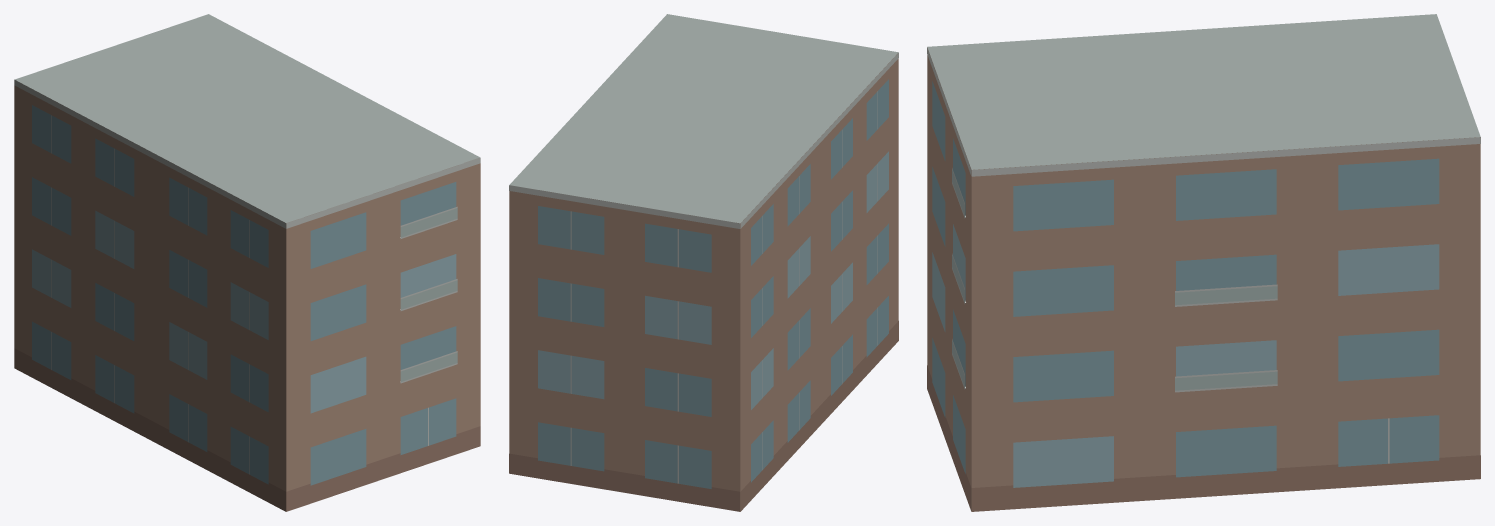
File: residential-d07a0abf-db98-4db4-896c-a5da2e8186bc.glb
3 views of the same model, side by side, from view 1: azimuth 30°, elevation 25°; view 2: azimuth 150°, elevation 25°; view 3: azimuth 270°, elevation 25° (orthographic). The views are drawn at different scales.
Parts seen in each view (by area): view 1: residential-d07a0abf-db98-4db4-896c-a5da2e8186bc.tmp; view 2: residential-d07a0abf-db98-4db4-896c-a5da2e8186bc.tmp; view 3: residential-d07a0abf-db98-4db4-896c-a5da2e8186bc.tmp.
Boxes of the visible parts, bbox=[...] form: residential-d07a0abf-db98-4db4-896c-a5da2e8186bc.tmp: bbox=[14, 14, 480, 511]; residential-d07a0abf-db98-4db4-896c-a5da2e8186bc.tmp: bbox=[509, 14, 898, 511]; residential-d07a0abf-db98-4db4-896c-a5da2e8186bc.tmp: bbox=[927, 14, 1480, 511].
Bounding box in the file's own units: 11.94 × 12.2 × 17.91.
